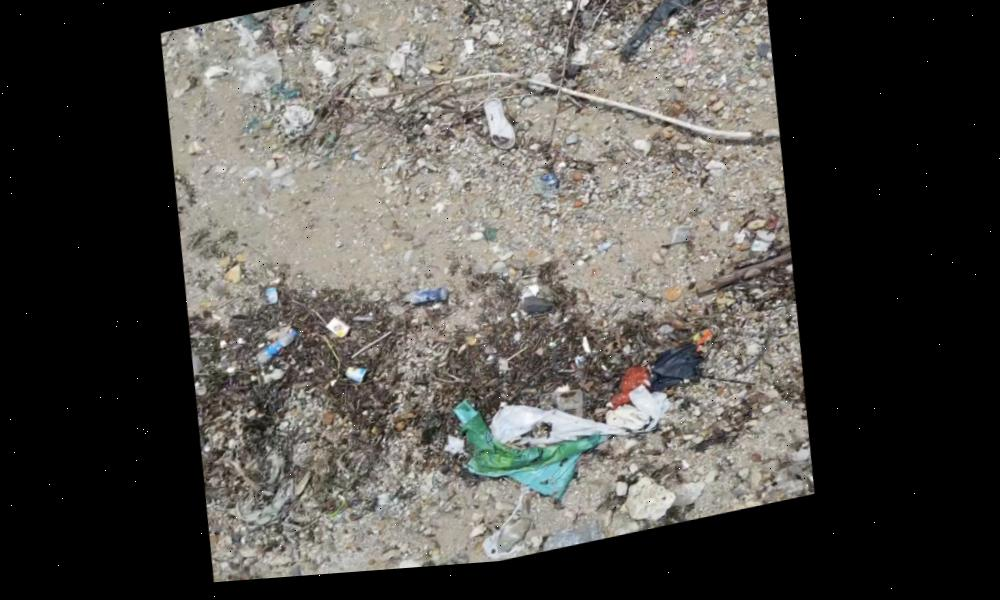plastic bag: (466, 384, 681, 515)
plastic bottle: (258, 336, 301, 366), (405, 291, 453, 317)
